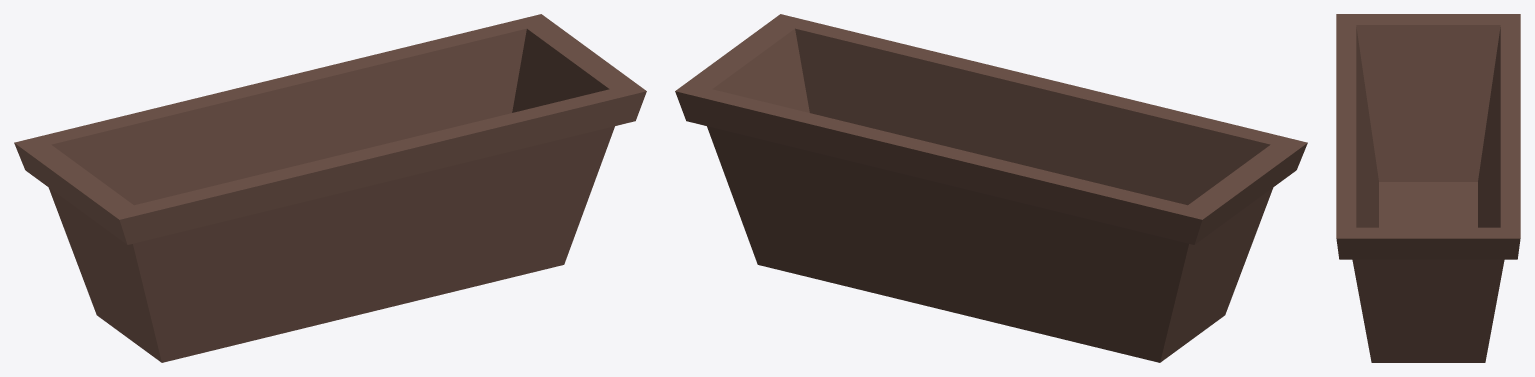
Rendered from FoodTrough_Empty.fbx.
3 renders of one model, left to right at view 1: azimuth 30°, elevation 25°; view 2: azimuth 150°, elevation 25°; view 3: azimuth 270°, elevation 25°, orthographic. The views are drawn at different scales.
Visible parts, largest first — view 1: FoodTrough_Empty; view 2: FoodTrough_Empty; view 3: FoodTrough_Empty.
Boxes of the visible parts, left/top/right/bottom form: FoodTrough_Empty: left=14, top=14, right=646, bottom=362; FoodTrough_Empty: left=675, top=14, right=1307, bottom=362; FoodTrough_Empty: left=1336, top=14, right=1520, bottom=362.
Size of the model in its own units: 276 by 86.45 by 95.5.
